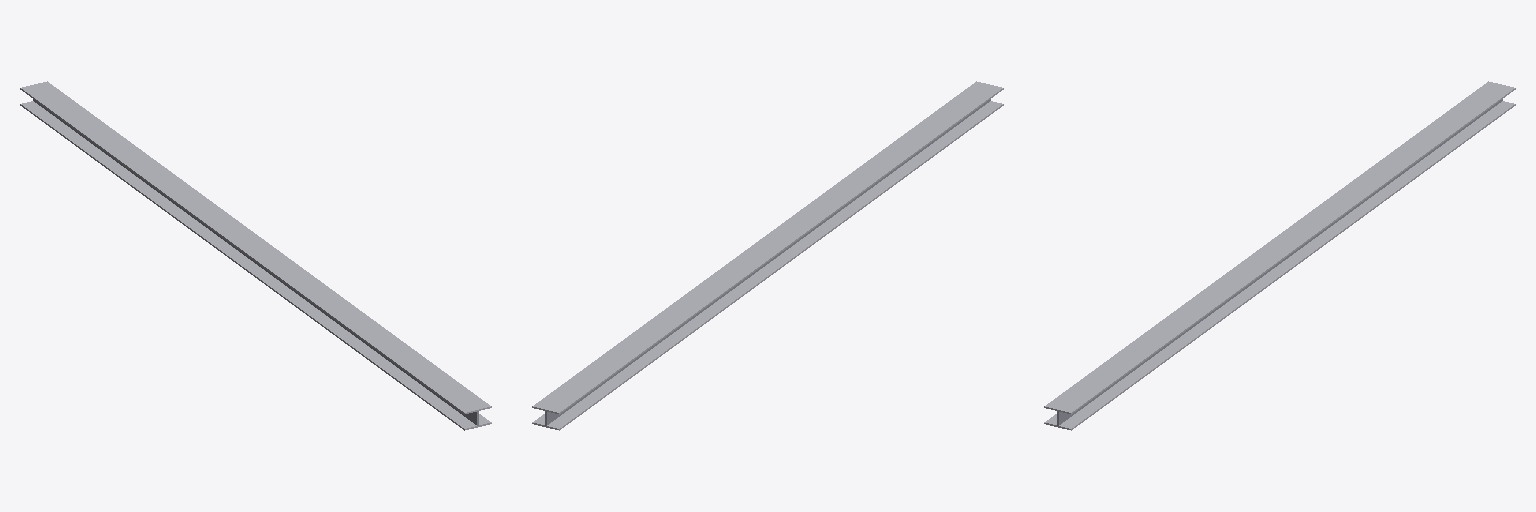
The robot description file, URDF, robot "h_bar":
<?xml version="1.0" ?>
<!-- =================================================================================== -->
<!-- |    This document was autogenerated by xacro from h_bar.xacro                    | -->
<!-- |    EDITING THIS FILE BY HAND IS NOT RECOMMENDED                                 | -->
<!-- =================================================================================== -->
<robot name="h_bar">
  <link name="world"/>
  <!-- Bottom leg (aligned with z-axis after rotation, below origin) -->
  <link name="hbar_bottom_leg">
    <visual>
      <origin rpy="0 1.57079633 0" xyz="0 0 0"/>
      <geometry>
        <!-- thickness x, profile width y, leg length along local z -->
        <box size="0.01 5.0 0.175"/>
      </geometry>
      <material name="hbar_material_bottom">
        <!-- Brushed steel-like gray -->
        <color rgba="0.75 0.75 0.78 1.0"/>
      </material>
    </visual>
    <collision>
      <origin rpy="0 1.57079633 0" xyz="0 0 0"/>
      <geometry>
        <box size="0.01 5.0 0.175"/>
      </geometry>
    </collision>
    <inertial>
      <origin rpy="0 0 0" xyz="0 0 0"/>
      <mass value="0.3333333333333333"/>
      <inertia ixx="0.6952951388888888" ixy="0.0" ixz="0.0" iyy="0.000853472222222222" iyz="0.0" izz="0.6944472222222222"/>
    </inertial>
  </link>
  <!-- Top leg (aligned with z-axis after rotation, above origin) -->
  <link name="hbar_top_leg">
    <visual>
      <origin rpy="0 1.57079633 0" xyz="0 0 0"/>
      <geometry>
        <box size="0.01 5.0 0.175"/>
      </geometry>
      <material name="hbar_material_top">
        <!-- Brushed steel-like gray -->
        <color rgba="0.75 0.75 0.78 1.0"/>
      </material>
    </visual>
    <collision>
      <origin rpy="0 1.57079633 0" xyz="0 0 0"/>
      <geometry>
        <box size="0.01 5.0 0.175"/>
      </geometry>
    </collision>
    <inertial>
      <origin rpy="0 0 0" xyz="0 0 0"/>
      <mass value="0.3333333333333333"/>
      <inertia ixx="0.6952951388888888" ixy="0.0" ixz="0.0" iyy="0.000853472222222222" iyz="0.0" izz="0.6944472222222222"/>
    </inertial>
  </link>
  <!-- Crossbar: vertical (aligned with z-axis) at the origin -->
  <link name="hbar_crossbar">
    <visual>
      <!-- Thickness in x,y, length in z -->
      <origin rpy="0 0 0" xyz="0 0 0"/>
      <geometry>
        <box size="0.01 5.0 0.1"/>
      </geometry>
      <material name="hbar_material_cross">
        <!-- Slightly darker steel for visual contrast -->
        <color rgba="0.65 0.65 0.7 1.0"/>
      </material>
    </visual>
    <collision>
      <origin rpy="0 0 0" xyz="0 0 0"/>
      <geometry>
        <box size="0.01 5.0 0.1"/>
      </geometry>
    </collision>
    <inertial>
      <origin rpy="0 0 0" xyz="0 0 0"/>
      <mass value="0.3333333333333333"/>
      <inertia ixx="0.6947222222222222" ixy="0.0" ixz="0.0" iyy="0.0002805555555555556" iyz="0.0" izz="0.6944472222222222"/>
    </inertial>
  </link>
  <!-- Fix crossbar to world; its center is at the macro pose -->
  <joint name="hbar_cross_fix" type="fixed">
    <parent link="world"/>
    <child link="hbar_crossbar"/>
    <origin rpy="0 0 0" xyz="0 0 0"/>
  </joint>
  <!-- Top leg: translated +L_leg/2 in x and +L_span/2 in z relative to crossbar -->
  <joint name="hbar_top_fix" type="fixed">
    <parent link="hbar_crossbar"/>
    <child link="hbar_top_leg"/>
    <origin rpy="0 0.0 0" xyz="0 0 0.05"/>
  </joint>
  <!-- Bottom leg: translated +L_leg/2 in x and -L_span/2 in z relative to crossbar -->
  <joint name="hbar_bottom_fix" type="fixed">
    <parent link="hbar_crossbar"/>
    <child link="hbar_bottom_leg"/>
    <origin rpy="0 0 0" xyz="0 0 -0.05"/>
  </joint>
</robot>

--- Render facts (derived) ---
3 views of the same robot in one strip: view 1: azimuth 30°, elevation 25°; view 2: azimuth 150°, elevation 25°; view 3: azimuth 330°, elevation 25° (orthographic).
Model h_bar with 4 links and 3 joints (3 fixed), rooted at world, posed all joints at 0.
Visible links, largest first — view 1: hbar_top_leg, hbar_bottom_leg, hbar_crossbar; view 2: hbar_top_leg, hbar_bottom_leg, hbar_crossbar; view 3: hbar_top_leg, hbar_bottom_leg, hbar_crossbar.
Boxes of the visible links, bbox=[...] form: hbar_top_leg: bbox=[20, 81, 491, 414]; hbar_bottom_leg: bbox=[20, 101, 491, 430]; hbar_crossbar: bbox=[33, 99, 478, 425]; hbar_top_leg: bbox=[532, 81, 1003, 414]; hbar_bottom_leg: bbox=[532, 101, 1003, 430]; hbar_crossbar: bbox=[545, 99, 990, 425]; hbar_top_leg: bbox=[1044, 81, 1515, 414]; hbar_bottom_leg: bbox=[1044, 101, 1515, 430]; hbar_crossbar: bbox=[1057, 99, 1502, 425].
Bounding box of the posed robot: 0.175 × 5 × 0.11 m (x, y, z).
Geometry: primitives only (box / cylinder / sphere), no mesh files.
